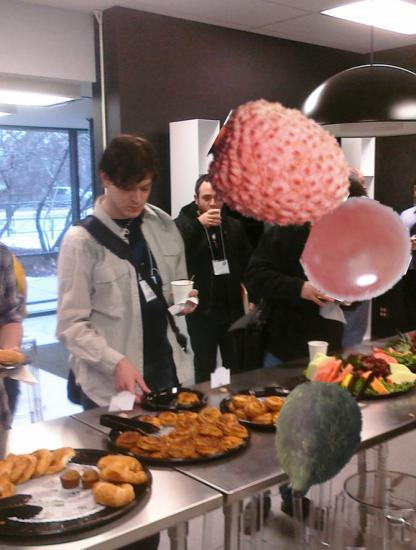Beetroot: (254, 377, 380, 503)
Lychee: (209, 98, 353, 242)
Redcurrant: (304, 197, 412, 305)
